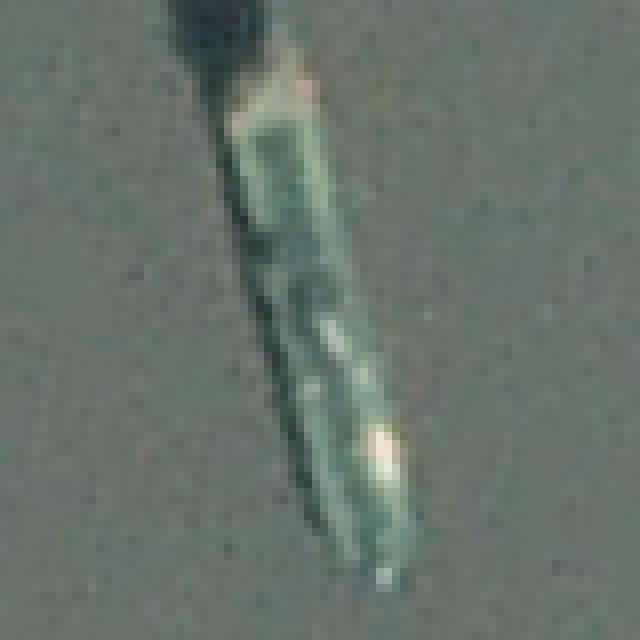ship: (165, 0, 507, 607)
